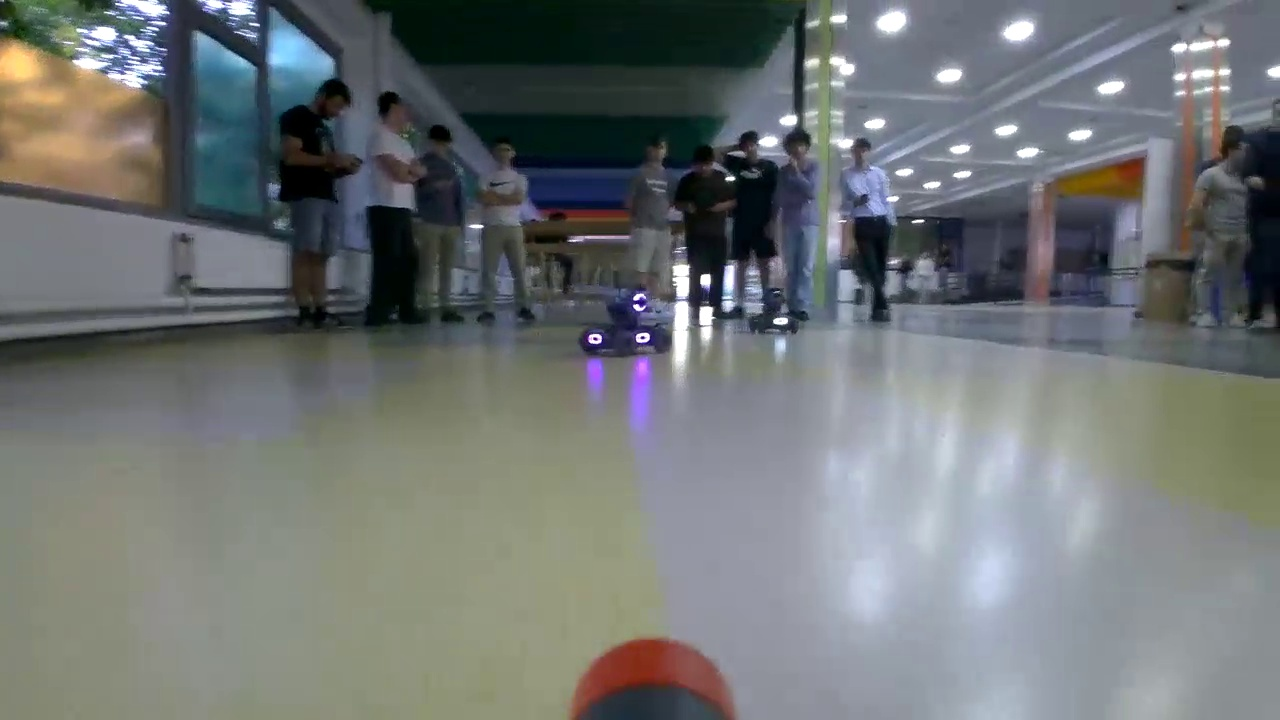robot: (572, 286, 664, 354), (739, 286, 808, 334)
